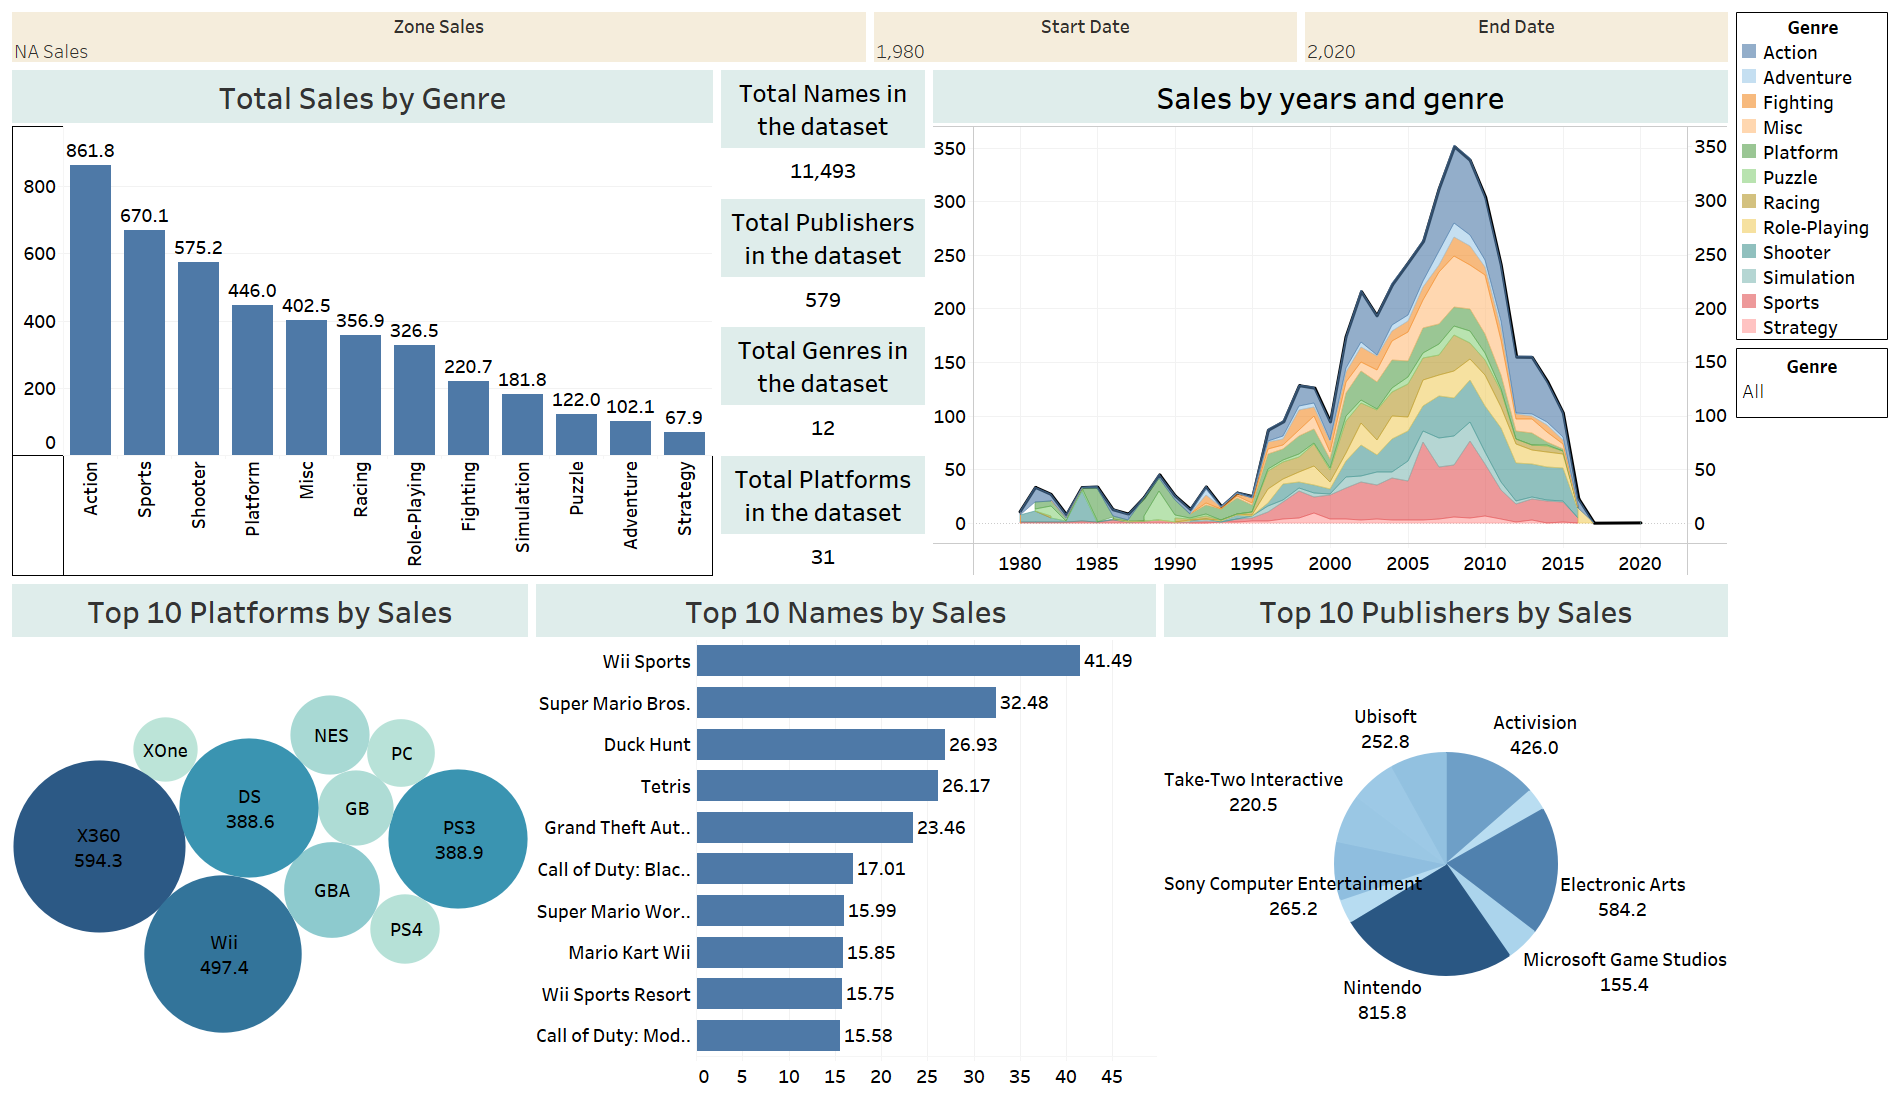

The page's visual inventory and layout, read from the dashboard file:
{"tool":"tableau","page":{"name":"Dashboard 1","canvas":[1900,1100],"ordinal":0},"visuals":[{"type":"parameter","param":"[Parameters].[Parameter 1]","box":[8,8,862,58]},{"type":"parameter","param":"[Parameters].[Parameter 2]","box":[870,8,431,58]},{"type":"parameter","param":"[Parameters].[Parameter 3]","box":[1301,8,431,58]},{"type":"legend","title":"Sales by years and genre","param":"[federated.14tzl570ll9asv19bgm661fk4kv4].[none:Genre:nk]","box":[1732,8,160,29]},{"type":"filter","title":"Sales by years and genre","param":"[federated.14tzl570ll9asv19bgm661fk4kv4].[none:Genre:nk]","box":[1732,37,160,78]},{"type":"worksheet","title":"Total Sales by Genre","mark":"Automatic","rows":["Calculation_4105031090978598912"],"cols":["Genre"],"box":[8,66,709,514]},{"type":"worksheet","title":"Total Names in the dataset","mark":"Automatic","box":[717,66,212,128.5]},{"type":"worksheet","title":"Sales by years and genre","mark":"Automatic","rows":["Calculation_4105031090978598912","Calculation_4105031090978598912"],"cols":["Year"],"box":[929,66,803,514]},{"type":"worksheet","title":"Total Publishers in the dataset","mark":"Automatic","box":[717,194.5,212,128.5]},{"type":"worksheet","title":"Total Genres in the dataset","mark":"Automatic","box":[717,323,212,128.5]},{"type":"worksheet","title":"Total Platforms in the dataset","mark":"Automatic","box":[717,451.5,212,128.5]},{"type":"worksheet","title":"Top 10 Platforms by Sales","mark":"Circle","box":[8,580,524,512]},{"type":"worksheet","title":"Top 10 Names by Sales","mark":"Automatic","rows":["Name"],"cols":["Calculation_4105031090978598912"],"box":[532,580,628,512]},{"type":"worksheet","title":"Top 10 Publishers by Sales","mark":"Pie","box":[1160,580,572,512]}]}

Visuals, with their boxes in screenshot pixels (x1, y1, x2, y2), scaled from the page's 1900x1100 canvas onto the 1900x1100 screenshot:
parameter: rect(8, 8, 870, 66)
parameter: rect(870, 8, 1301, 66)
parameter: rect(1301, 8, 1732, 66)
"Sales by years and genre" legend: rect(1732, 8, 1892, 37)
"Sales by years and genre" filter: rect(1732, 37, 1892, 115)
"Total Sales by Genre" worksheet: rect(8, 66, 717, 580)
"Total Names in the dataset" worksheet: rect(717, 66, 929, 194)
"Sales by years and genre" worksheet: rect(929, 66, 1732, 580)
"Total Publishers in the dataset" worksheet: rect(717, 194, 929, 323)
"Total Genres in the dataset" worksheet: rect(717, 323, 929, 452)
"Total Platforms in the dataset" worksheet: rect(717, 452, 929, 580)
"Top 10 Platforms by Sales" worksheet (Circle marks): rect(8, 580, 532, 1092)
"Top 10 Names by Sales" worksheet: rect(532, 580, 1160, 1092)
"Top 10 Publishers by Sales" worksheet (Pie marks): rect(1160, 580, 1732, 1092)
